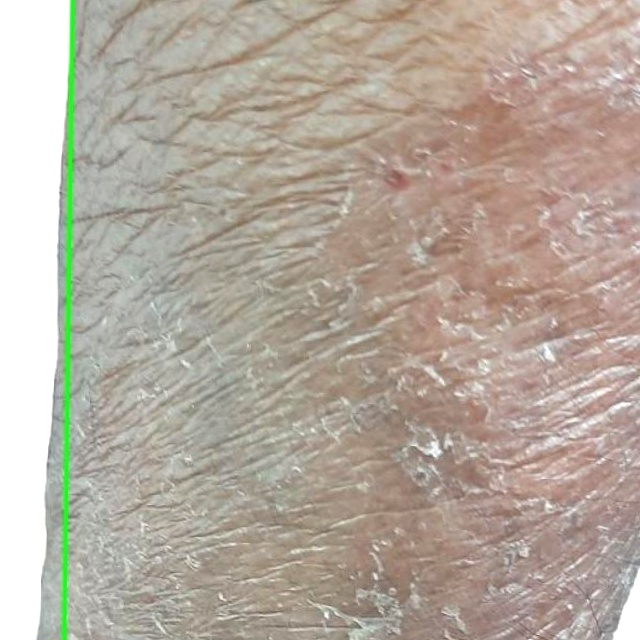Tinea Corporis: (0, 0, 72, 639)
